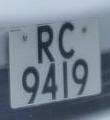1: (59, 60, 73, 103)
4: (40, 61, 61, 106)
9: (19, 63, 42, 110), (70, 58, 90, 100)
C: (56, 16, 79, 63)
R: (33, 21, 59, 65)
